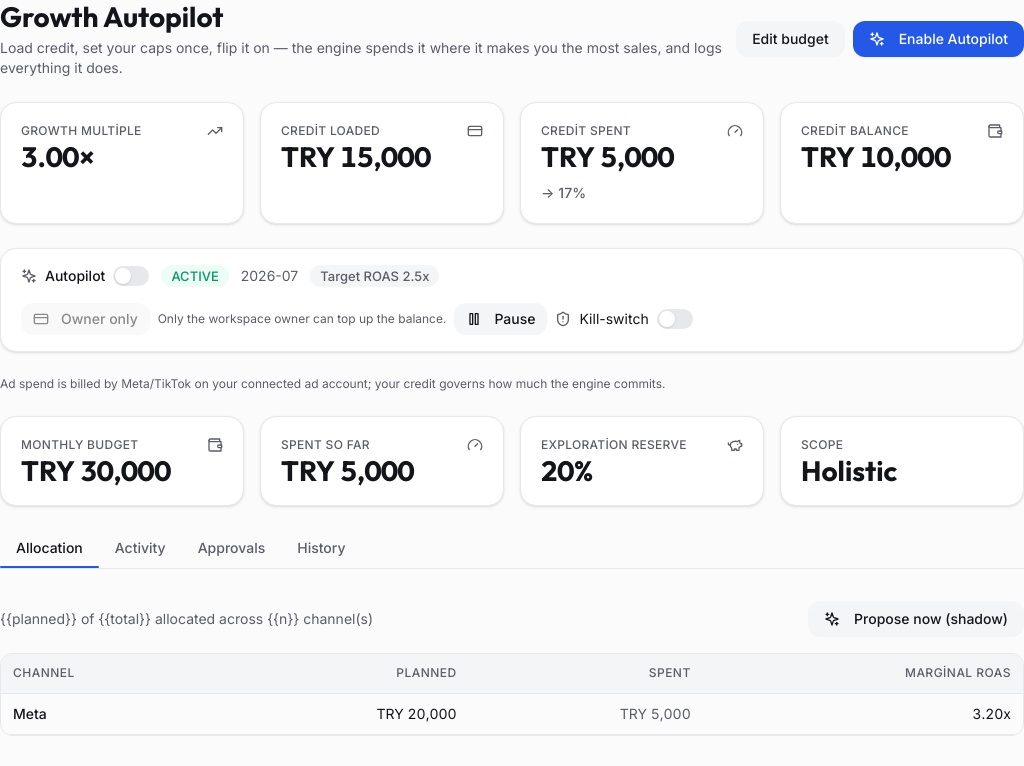
Test: BudgetAutopilotPage › explains + disables the switch when the platform flag rejects arming
Click the switch named "Autopilot".
click(131, 276)  # box top-left (113, 266), bottom-right (149, 286)
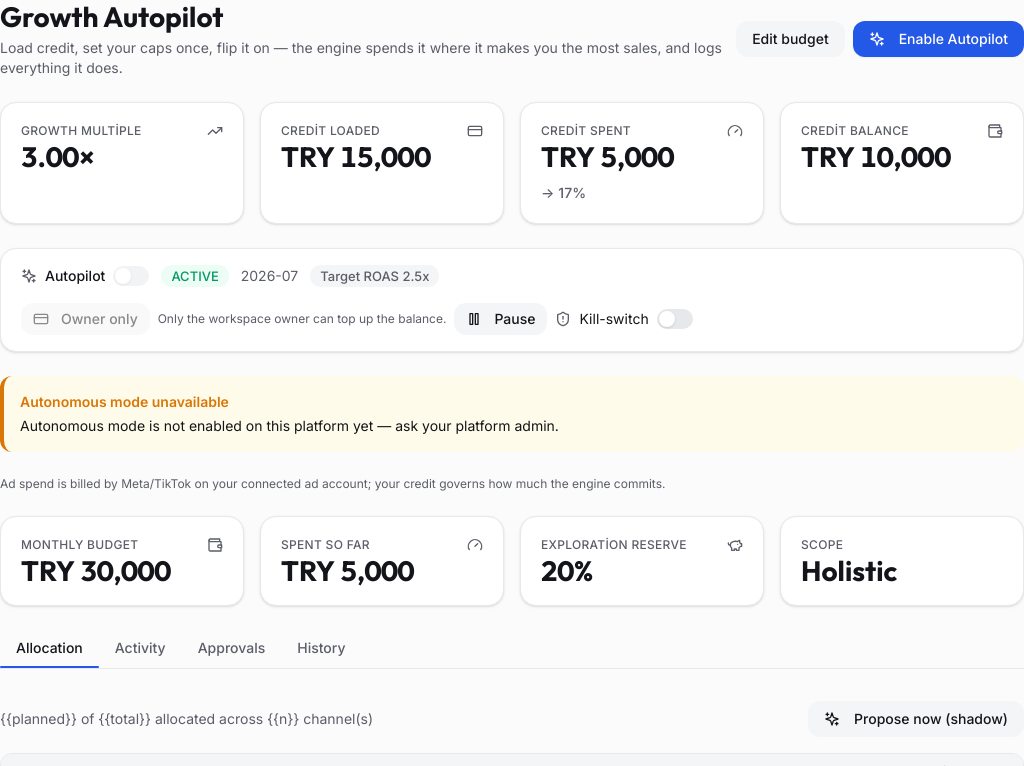
Result: the text "Autonomous mode is not enabled on this platform yet — ask your platform admin." is shown at top-left (20, 416), bottom-right (559, 436)
